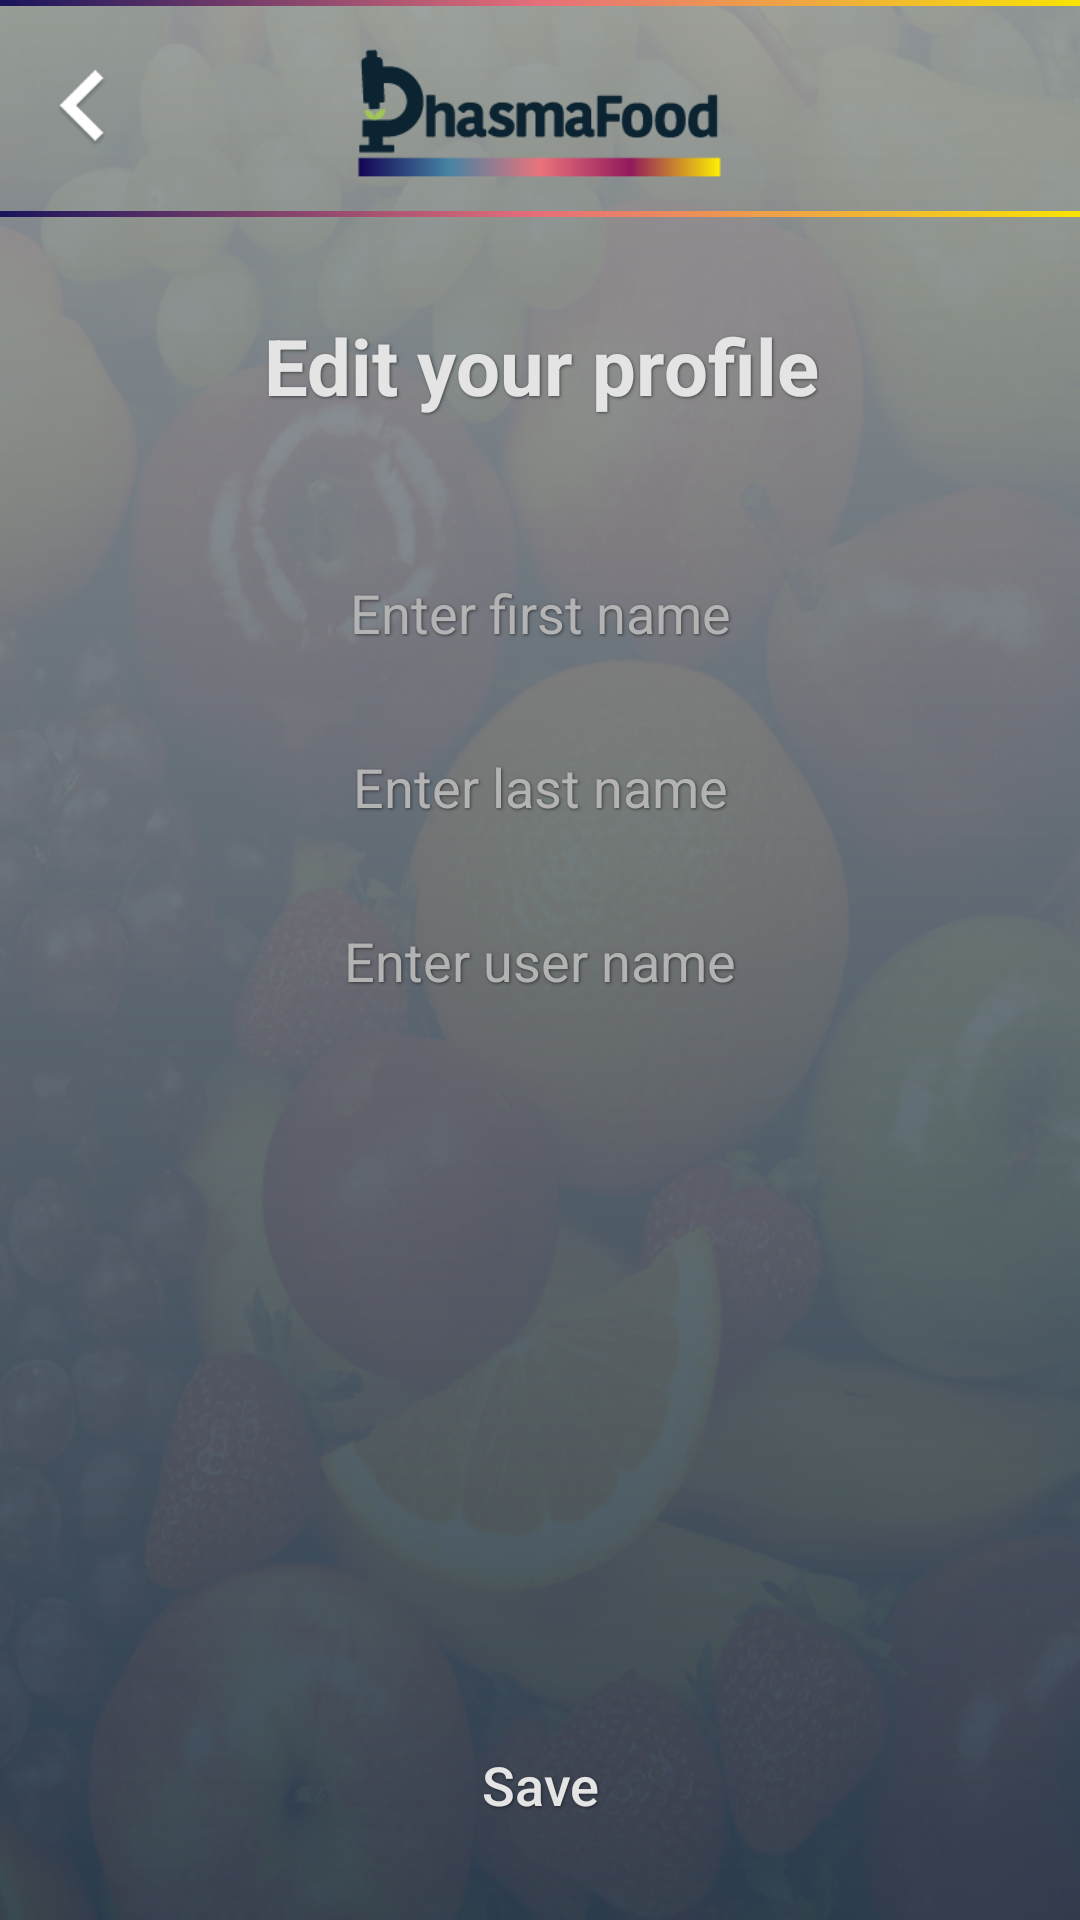

Point at icon controls on the screen. Image size 1080w x 1920h, points as point (x, y).
back: point (81, 106)
